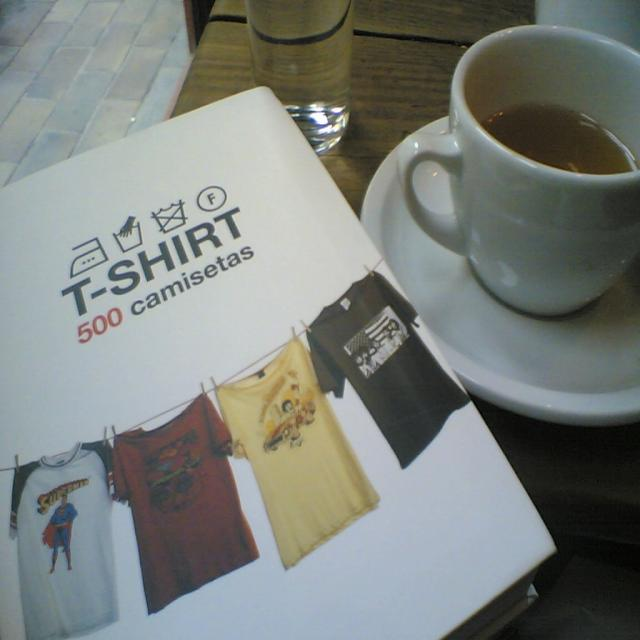Coffee: (482, 103, 640, 175)
Tea: (478, 109, 640, 173)
